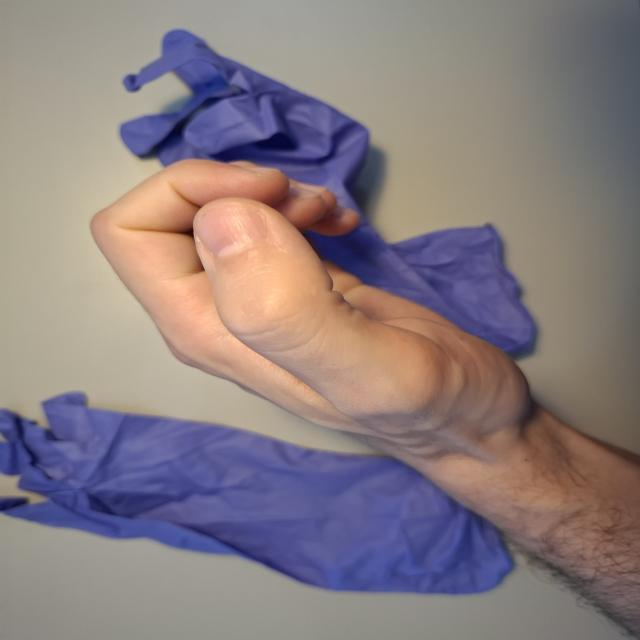glove_off: (85, 152, 560, 466)
